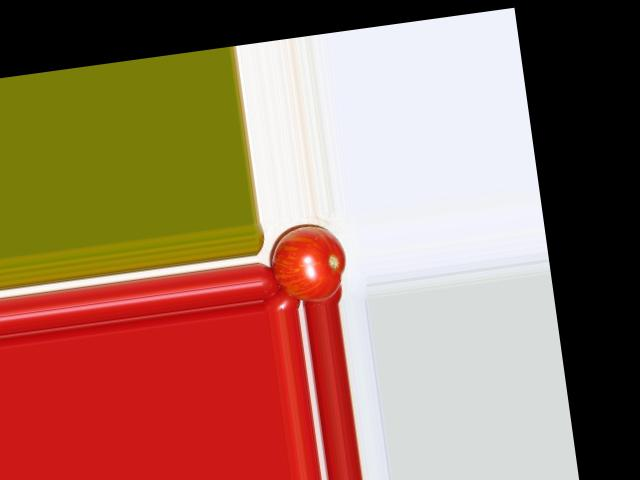tomato: (266, 221, 351, 306)
